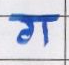aa_matra: (43, 21, 48, 44)
